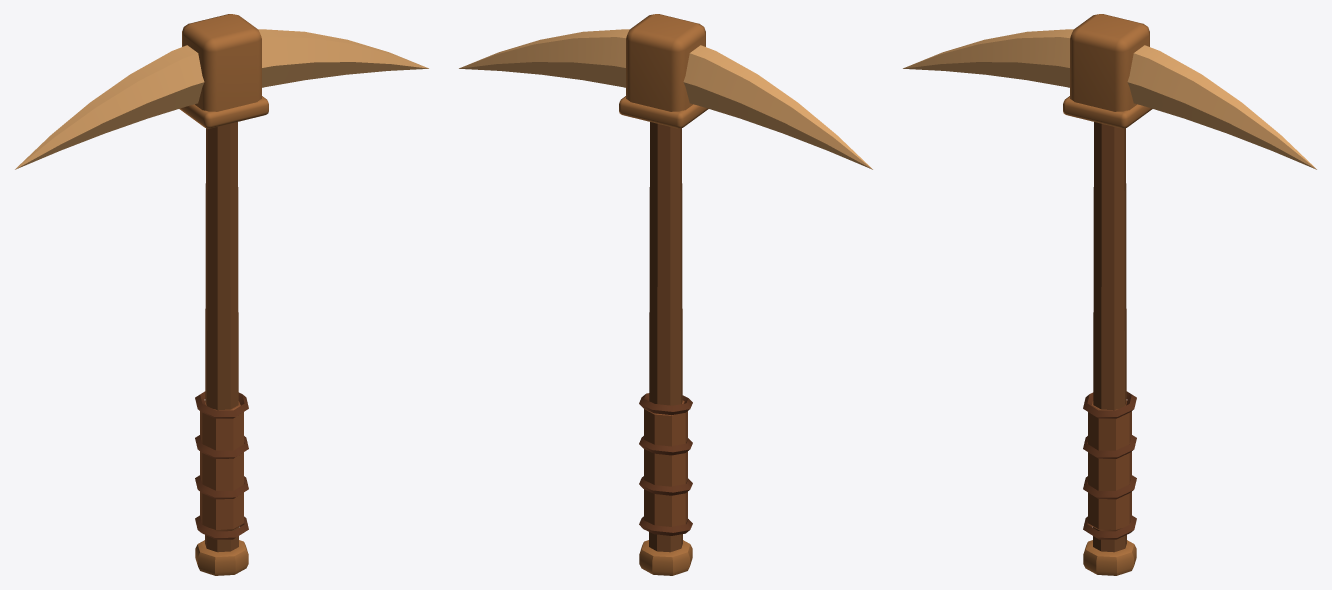
The model's file is WoodPickaxe.fbx.
The picture shows the model from 3 angles, left to right: view 1: azimuth 30°, elevation 25°; view 2: azimuth 150°, elevation 25°; view 3: azimuth 330°, elevation 25°; orthographic projection.
Visible parts, largest first — view 1: WoodPickaxe; view 2: WoodPickaxe; view 3: WoodPickaxe.
Boxes of the visible parts, x1,y1,x2,y2 form: WoodPickaxe: [15, 14, 428, 575]; WoodPickaxe: [459, 14, 872, 575]; WoodPickaxe: [903, 14, 1316, 575].
Bounding box in the file's own units: 2.7 × 3.36 × 0.38.
Materials: 1 (1 with a texture image).
